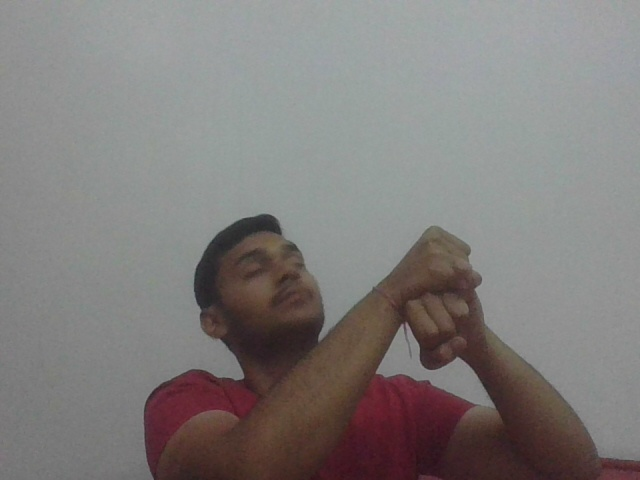S: (395, 223, 494, 374)
